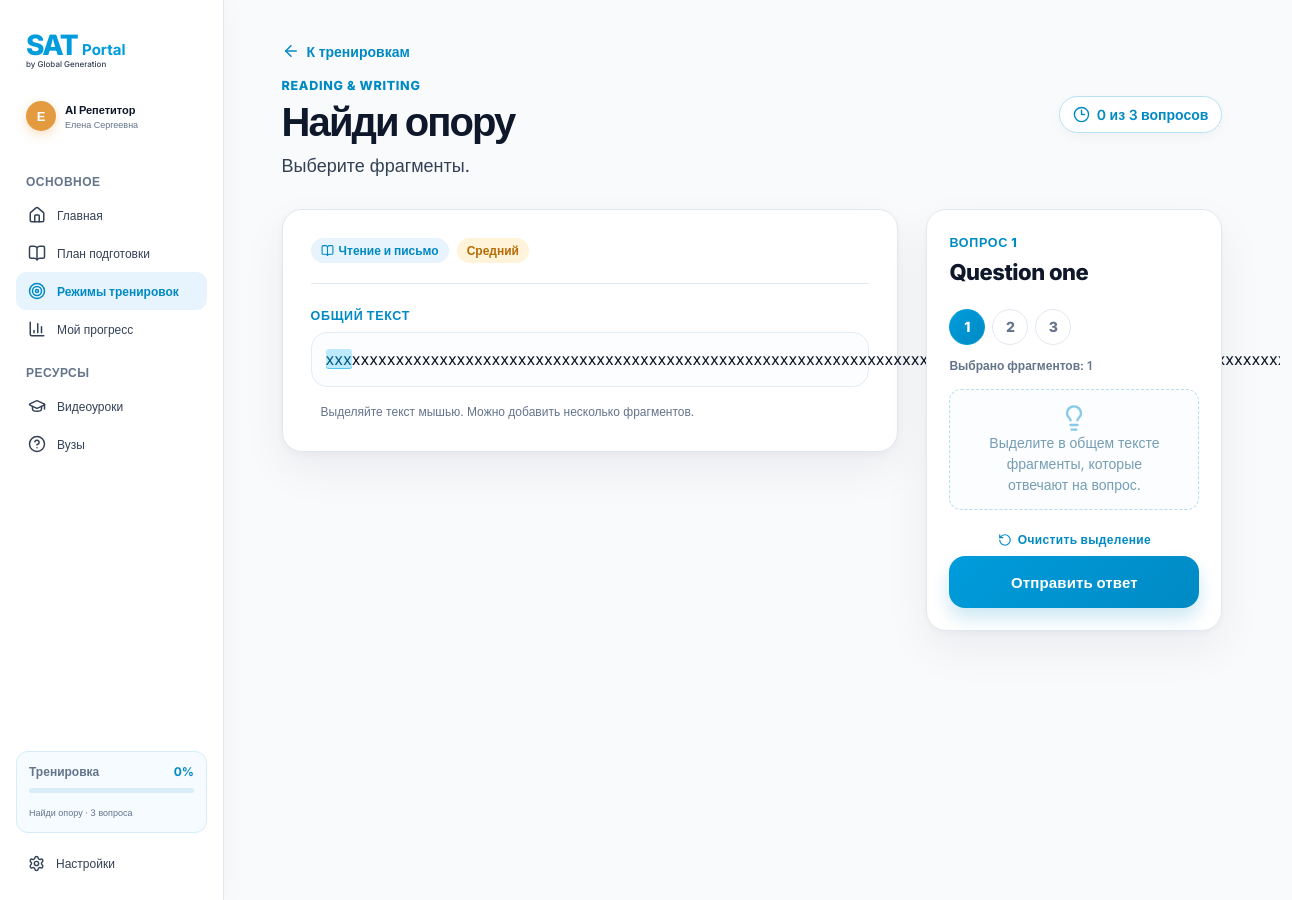
App › shows server-side review feedback
Expected: the heading "Найди опору" is shown, [282,97,514,146]
Click the button "Отправить ответ" at (1074, 582), box [949,556,1199,608]
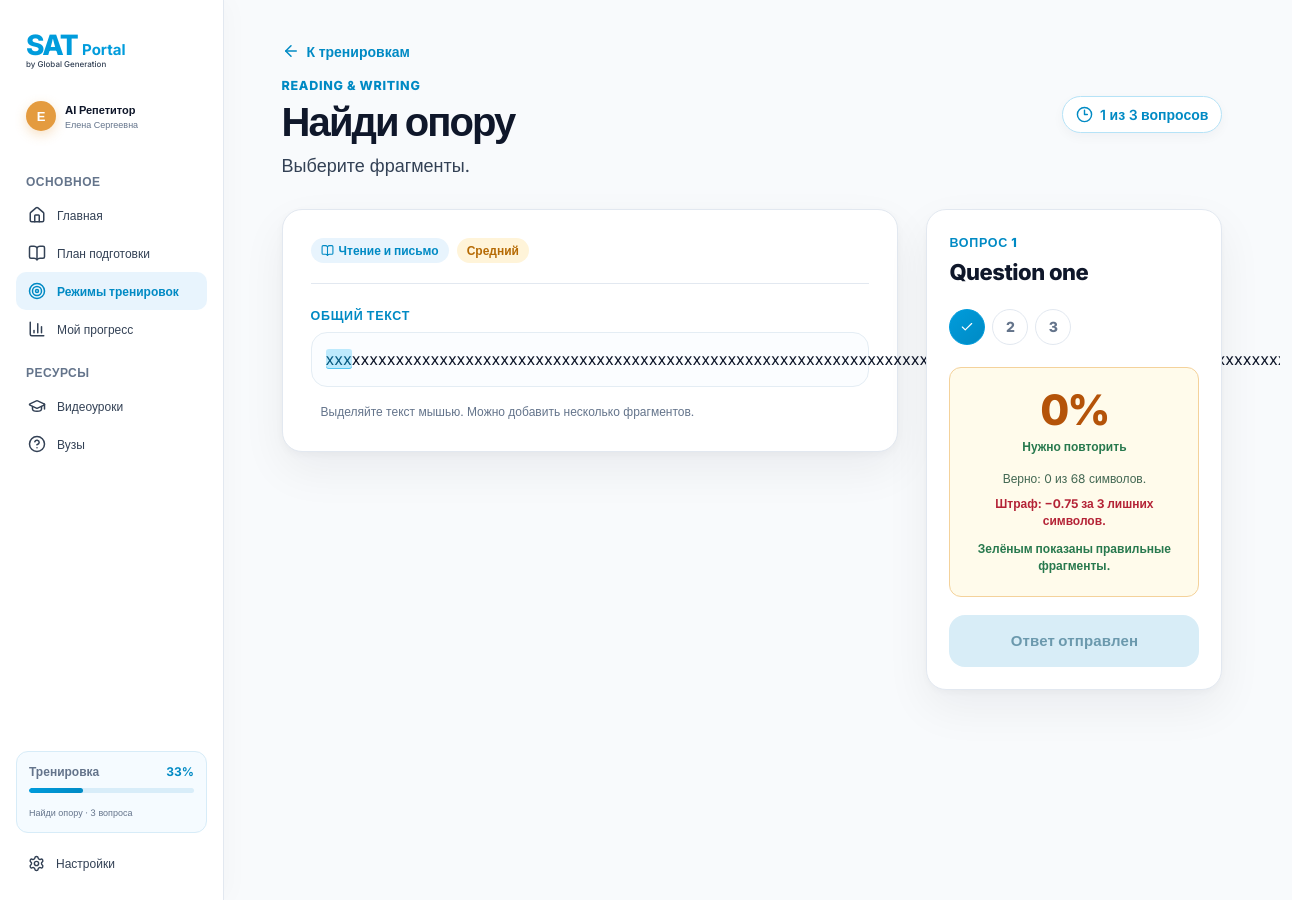
Expected: the text "Нужно повторить" is shown, [1022,439,1126,454]
Expected: the text "Штраф: −0.75 за 3 лишних символов." is shown, [995,496,1154,528]
